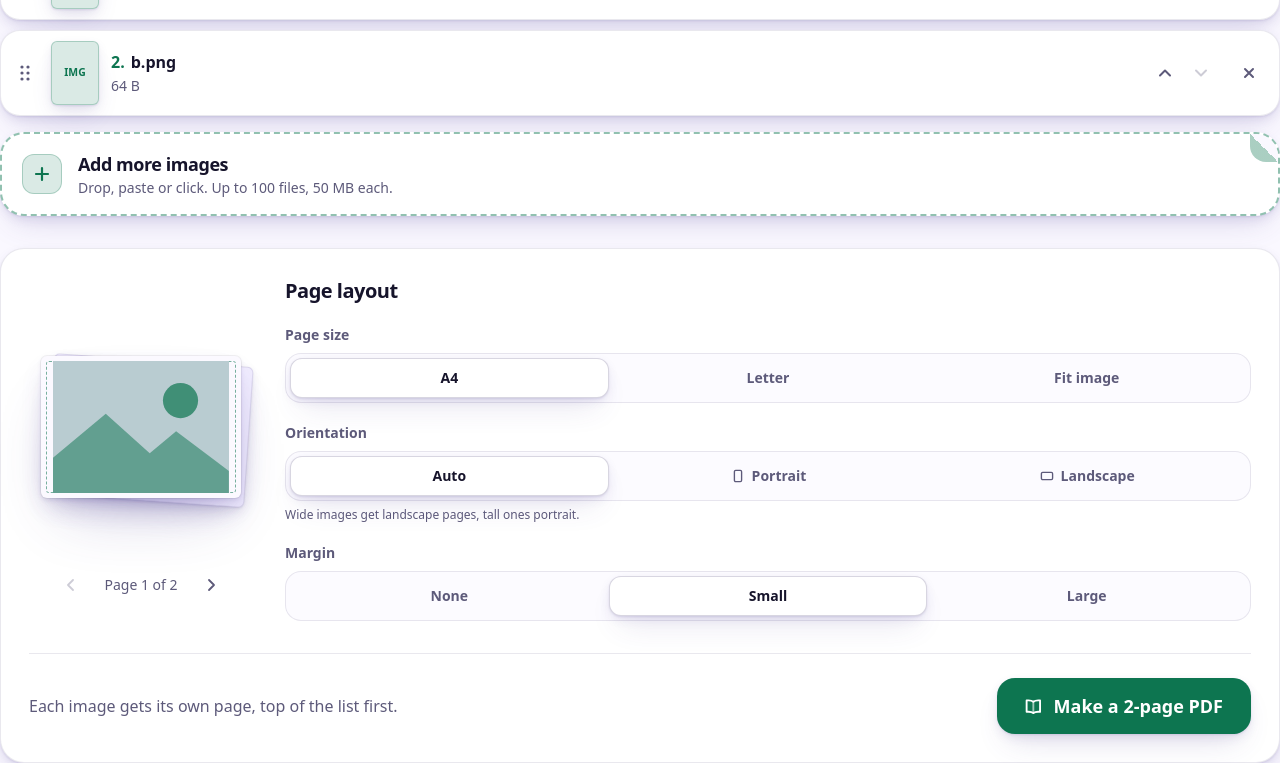
ImagesTool › steps through the pages in the preview
Earlier steps of the test are not shown.
(page scrolled)
Expected: the text "Page 1 of 2" is shown, x1=104 y1=575 x2=178 y2=594
Expected: the button named "Show the previous page" is disabled, x1=53 y1=567 x2=89 y2=603
What coordinates should you click on to do the following:
click the button named "Show the next page"
I would click on:
 (211, 585)
Its box is x1=193 y1=567 x2=229 y2=603.
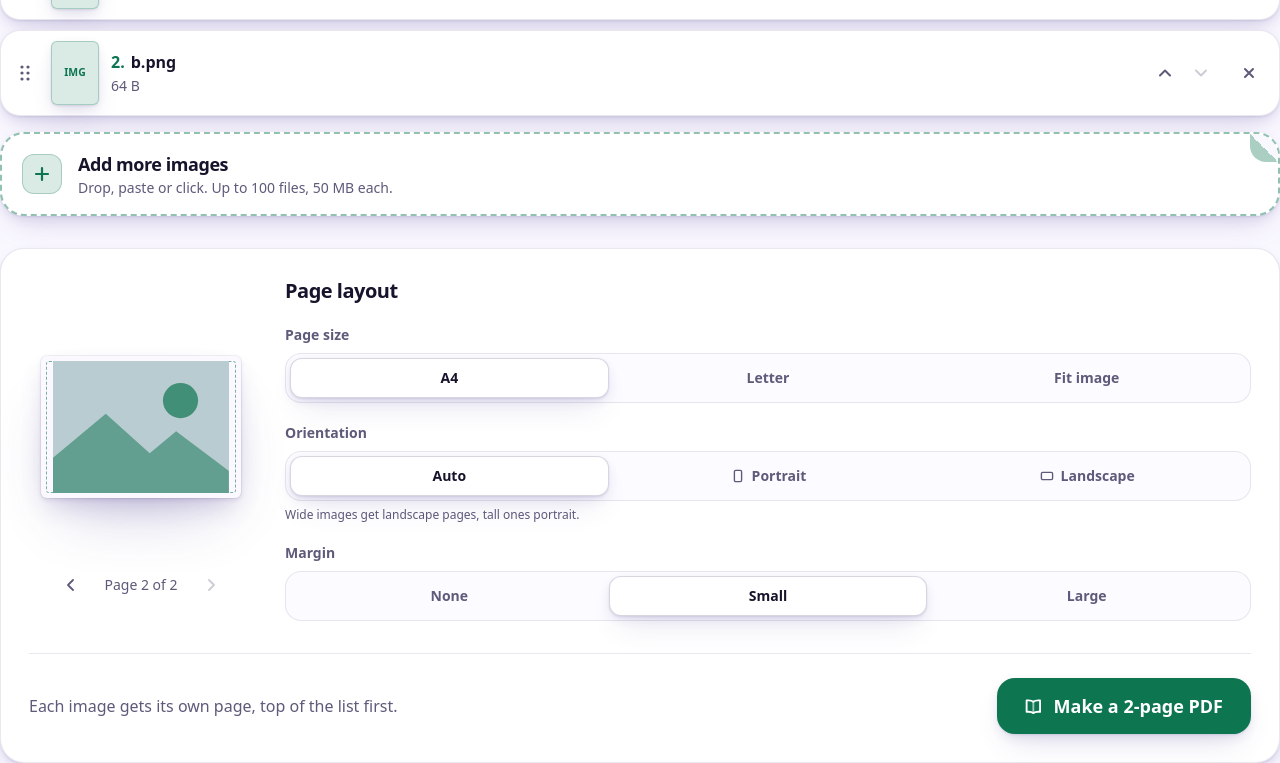
Expected: the text "Page 2 of 2" is shown, x1=104 y1=575 x2=178 y2=594
Expected: the button named "Show the next page" is disabled, x1=193 y1=567 x2=229 y2=603
